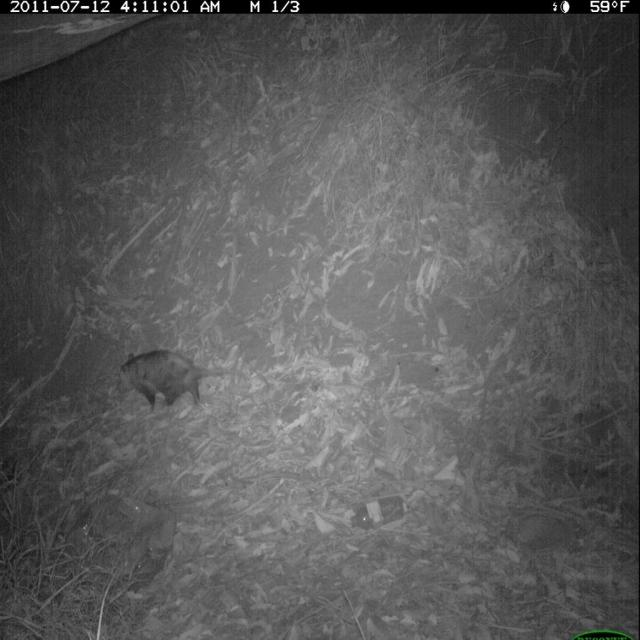opossum: (116, 343, 272, 423)
